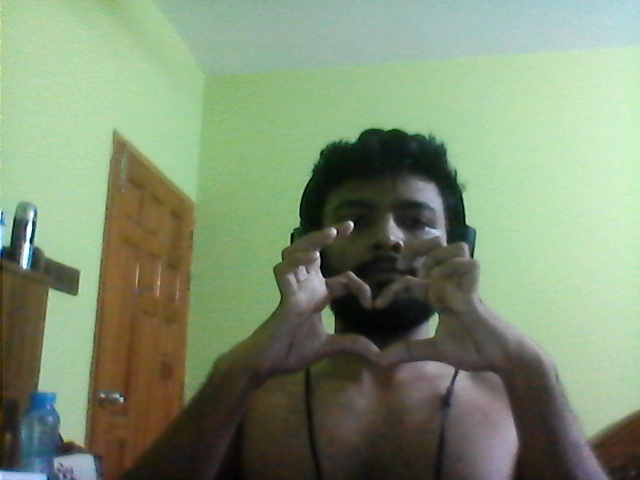Love: (230, 215, 546, 386)
